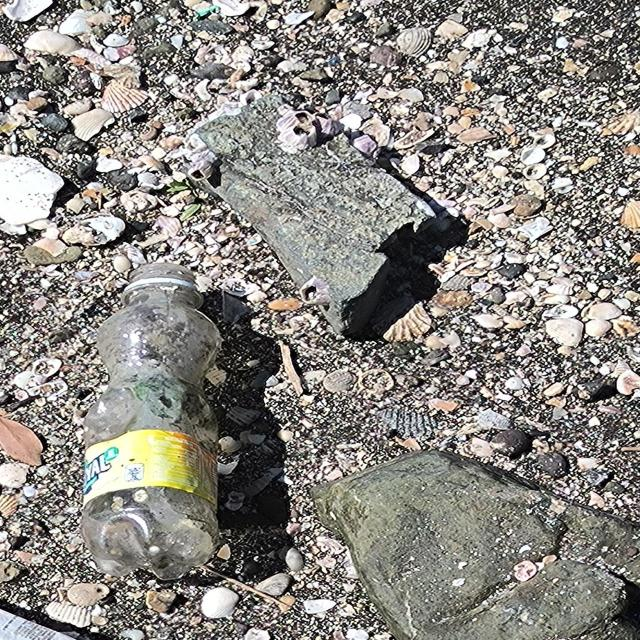plastic_waste: (82, 262, 228, 584)
